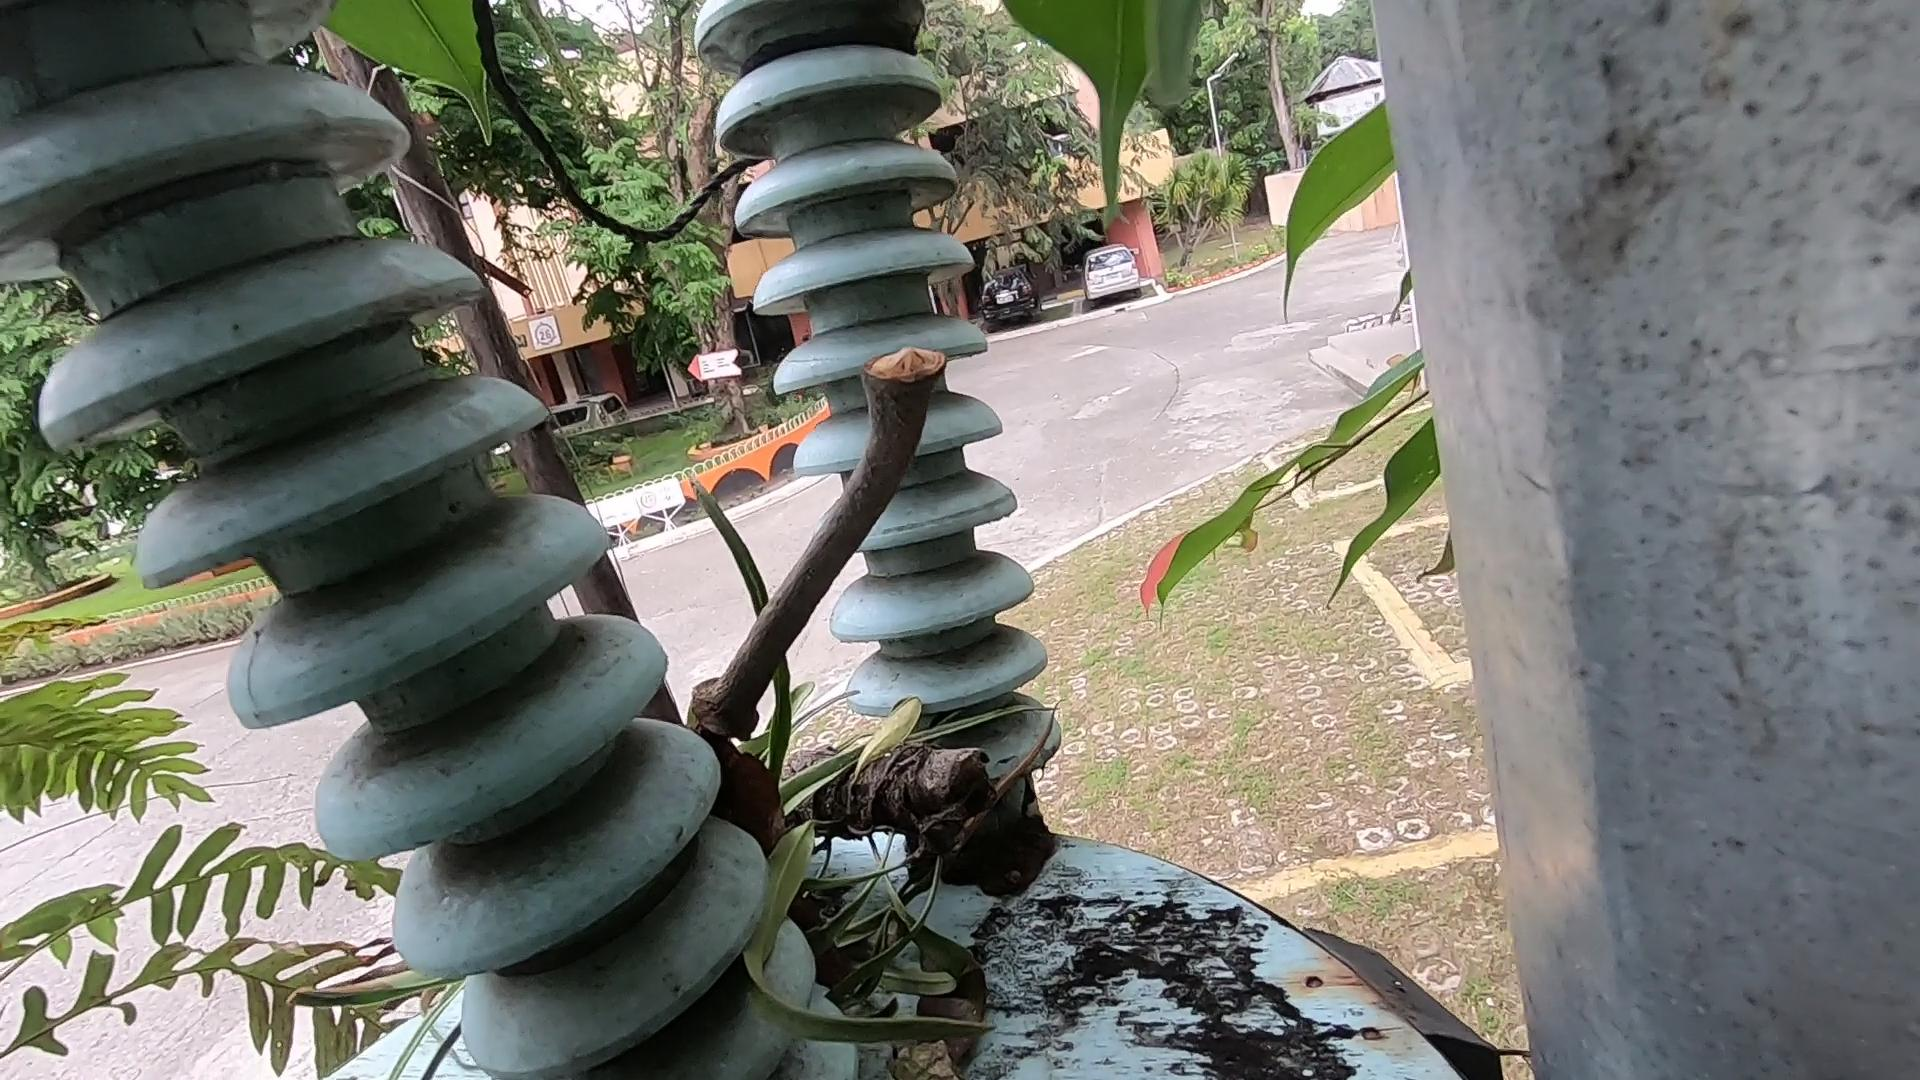branch with leaves: (738, 596, 1011, 1080)
tree branch: (708, 305, 989, 851)
